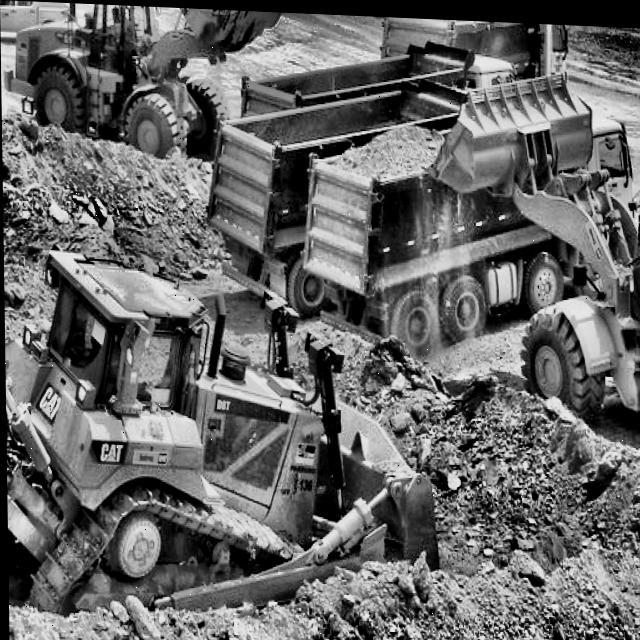buldozerpayloadergrader: (3, 248, 488, 640), (434, 49, 640, 491), (0, 0, 290, 210)
dump_truck: (156, 6, 640, 349)
light_vehicle: (0, 0, 80, 36)
